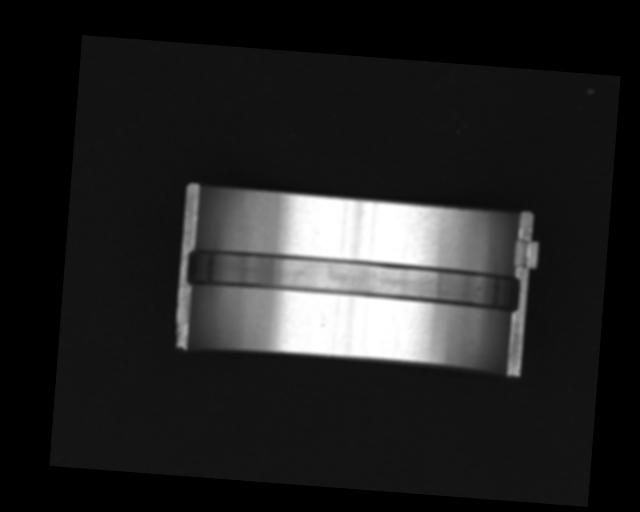gap: (184, 247, 524, 312)
